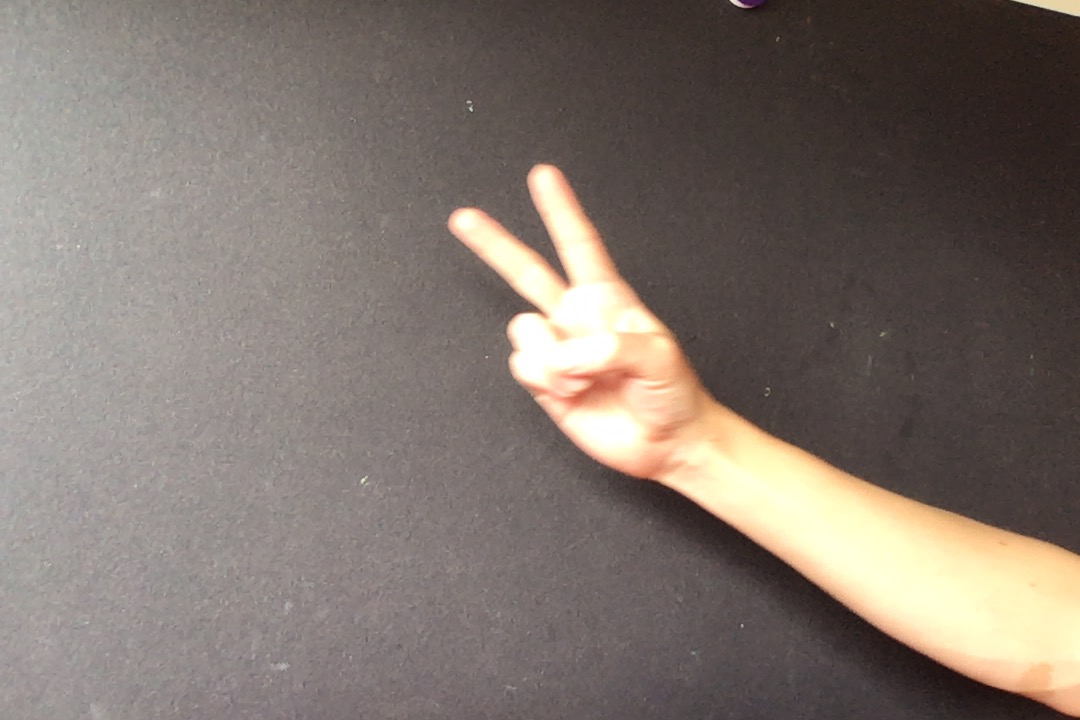peacesign: (446, 155, 705, 489)
